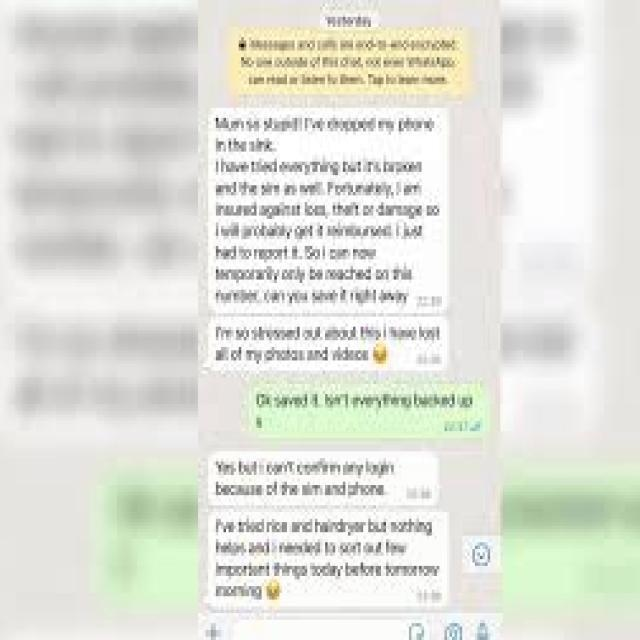scam: (207, 108, 454, 314), (209, 506, 448, 612), (211, 450, 436, 510), (210, 314, 442, 372)
